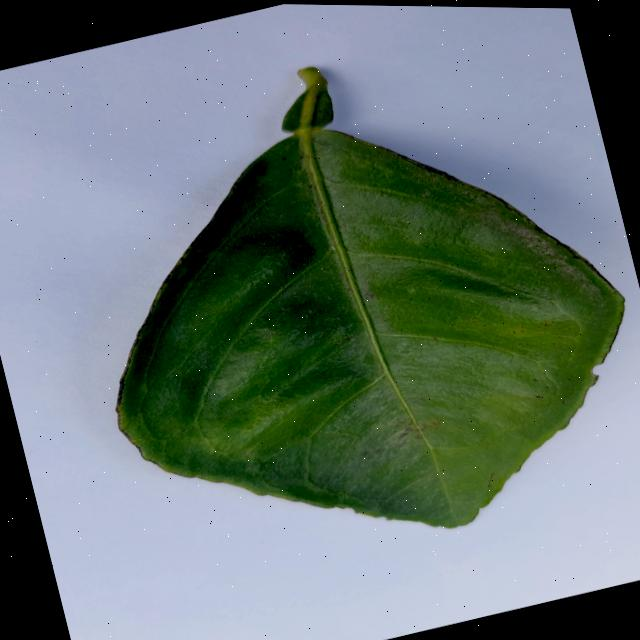greening: (117, 67, 622, 527)
